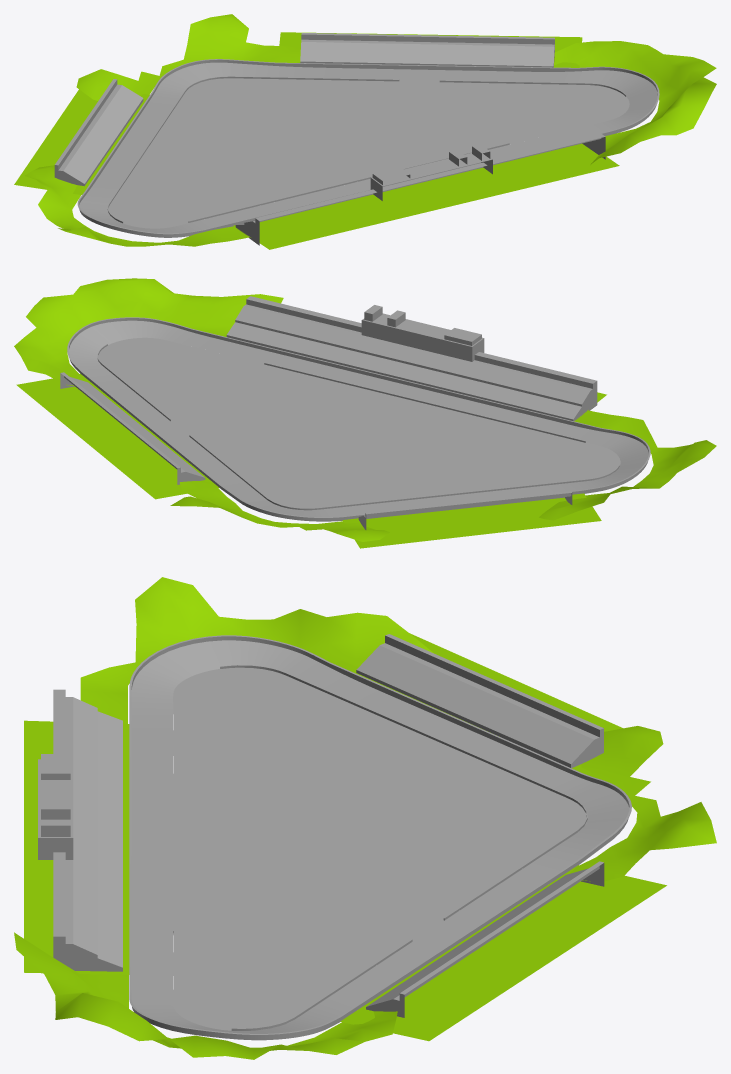
File: Track5_Stadium.fbx
3 views of the same model, one above another, from view 1: azimuth 30°, elevation 25°; view 2: azimuth 150°, elevation 25°; view 3: azimuth 270°, elevation 25° (orthographic). The views are drawn at different scales.
Parts seen in each view (by area): view 1: polySurface60, polySurface2, polySurface58, polySurface54, polySurface59; view 2: polySurface60, polySurface2, polySurface58, polySurface54, polySurface59; view 3: polySurface60, polySurface2, polySurface58, polySurface54, polySurface59.
Part boxes in pixels (<box>): polySurface60: <box>79,62,657,233</box>; polySurface2: <box>14,14,716,249</box>; polySurface58: <box>54,33,605,245</box>; polySurface54: <box>77,59,659,237</box>; polySurface59: <box>107,76,626,223</box>; polySurface60: <box>69,320,648,517</box>; polySurface2: <box>14,278,716,548</box>; polySurface58: <box>60,296,597,529</box>; polySurface54: <box>67,317,650,521</box>; polySurface59: <box>97,344,619,510</box>; polySurface60: <box>131,640,629,1033</box>; polySurface2: <box>14,577,716,1059</box>; polySurface58: <box>38,634,604,1017</box>; polySurface54: <box>129,635,631,1040</box>; polySurface59: <box>173,665,587,1030</box>.
Bounding box in the file's own units: 24455 × 1531 × 15381.
